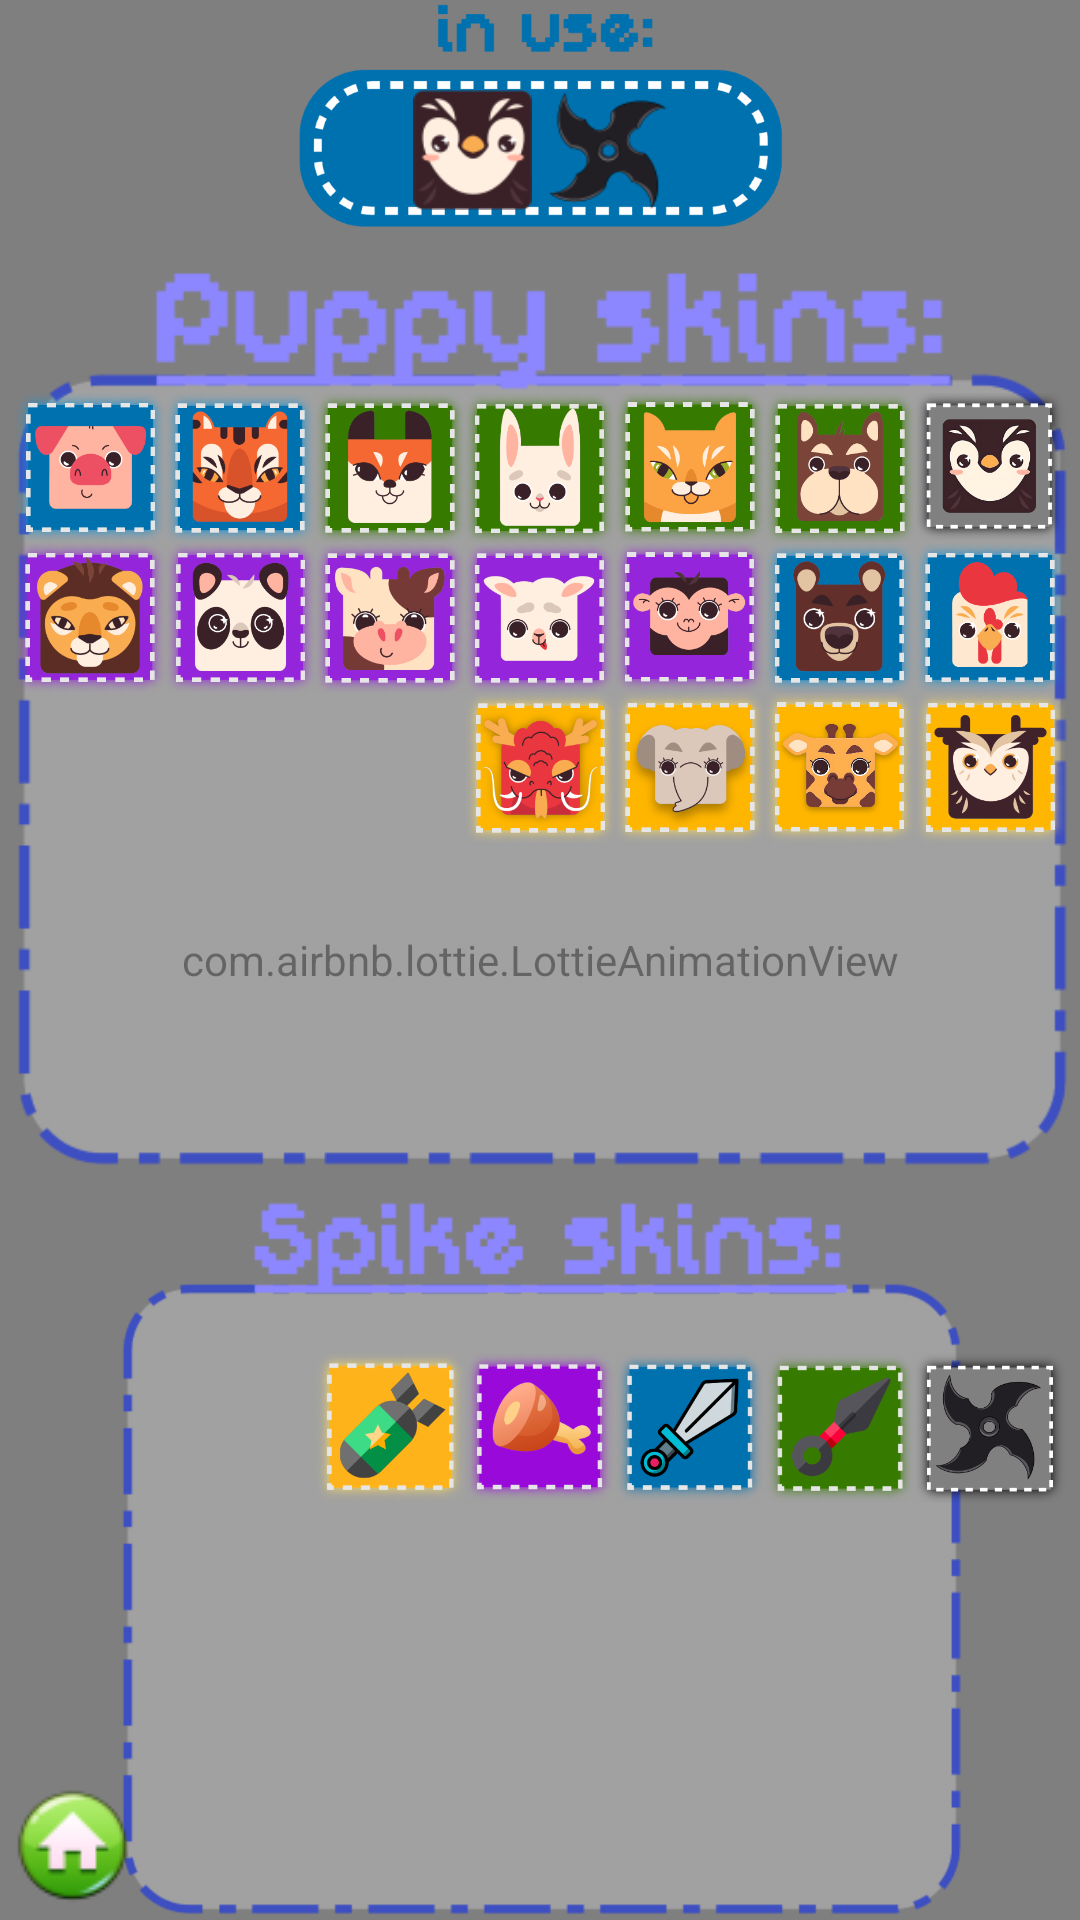

Screen size 1080 × 1920. Icon name, then its center in pixels as point (x, y):
bear chestshop: point (839, 618)
bomb chestshop: point (390, 1427)
bunny chestshop: point (539, 468)
cat chestshop: point (690, 467)
chicken chestshop: point (990, 618)
cow chestshop: point (390, 618)
dog chestshop: point (840, 468)
dragon chestshop: point (540, 768)
elephant chestshop: point (690, 767)
fox chestshop: point (390, 468)
giraffe chestshop: point (839, 767)
home: point (75, 1845)
lion chestshop: point (90, 618)
monkey chestshop: point (689, 617)
ninja sword chestshop: point (840, 1428)
owl chestshop: point (994, 768)
panda chestshop: point (240, 617)
pig chestshop: point (90, 468)
sheep chestshop: point (539, 618)
spike chestshop: point (988, 1427)
steak chestshop: point (539, 1427)
sword chestshop: point (689, 1427)
tiger chestshop: point (240, 468)
